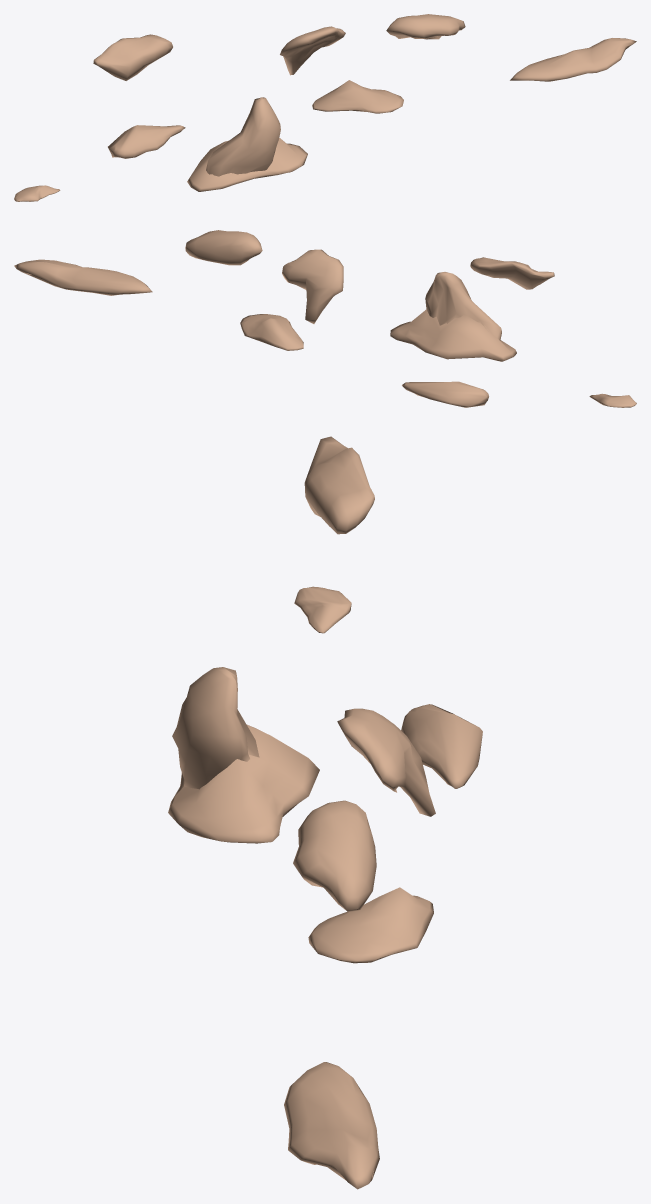
The model's file is bowheadWhaleFlesh00.fbx.
The picture shows the model from 3 angles, top to bottom: view 1: azimuth 30°, elevation 25°; view 2: azimuth 150°, elevation 25°; view 3: azimuth 270°, elevation 25°; orthographic projection. The views are drawn at different scales.
Parts seen in each view (by area): view 1: Cube.030; view 2: Cube.030; view 3: Cube.030.
Boxes of the visible parts, bbox=[...] form: Cube.030: bbox=[14, 14, 636, 201]; Cube.030: bbox=[14, 230, 636, 407]; Cube.030: bbox=[168, 436, 482, 1189].
Size of the model in its own units: 3262 by 673 by 727.
